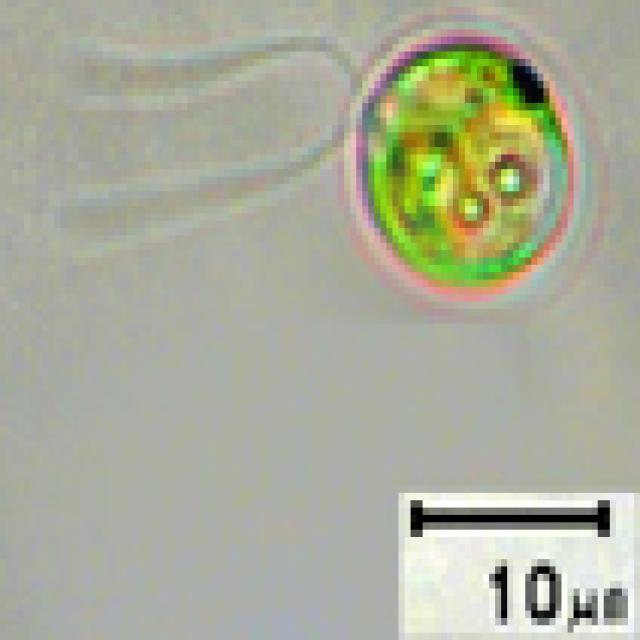Green Algae: (48, 30, 586, 302)
